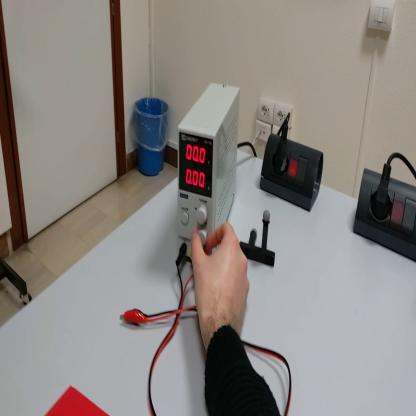hand: (191, 222, 252, 338)
power supply: (178, 84, 243, 261)
register: (46, 385, 108, 414)
socket: (355, 167, 416, 262), (260, 135, 325, 216)
